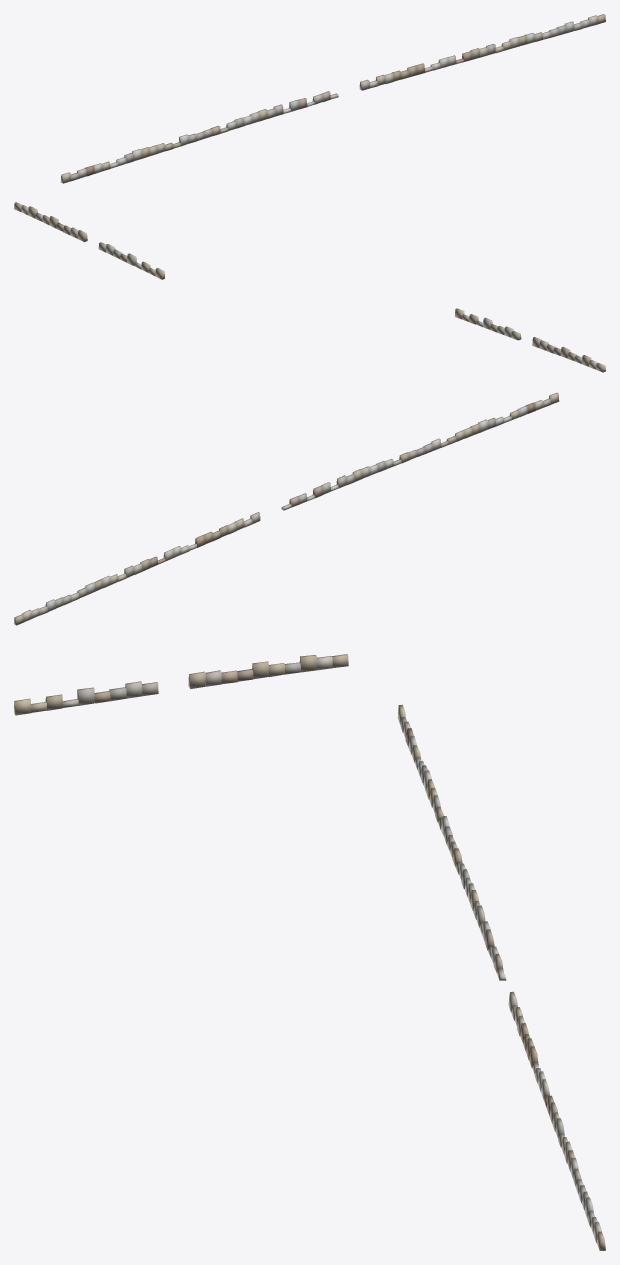
Rendered from farm_-4_15_far.glb.
3 renders of one model, top to bottom at view 1: azimuth 30°, elevation 25°; view 2: azimuth 210°, elevation 25°; view 3: azimuth 270°, elevation 25°, orthographic. The views are drawn at different scales.
Parts seen in each view (by area): view 1: geometry_0; view 2: geometry_0; view 3: geometry_0.
Part boxes in pixels (left/top/right/bottom): geometry_0: left=14, top=14, right=605, bottom=279; geometry_0: left=14, top=308, right=605, bottom=625; geometry_0: left=14, top=654, right=605, bottom=1250.
Size of the model in its own units: 119 by 6.94 by 55.63.
